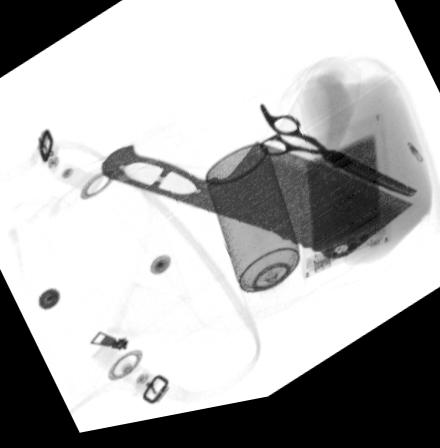Knife: (95, 147, 415, 275)
Powerbank: (294, 129, 391, 293)
Scissors: (256, 112, 419, 215)
Sprayer: (204, 153, 309, 326)
